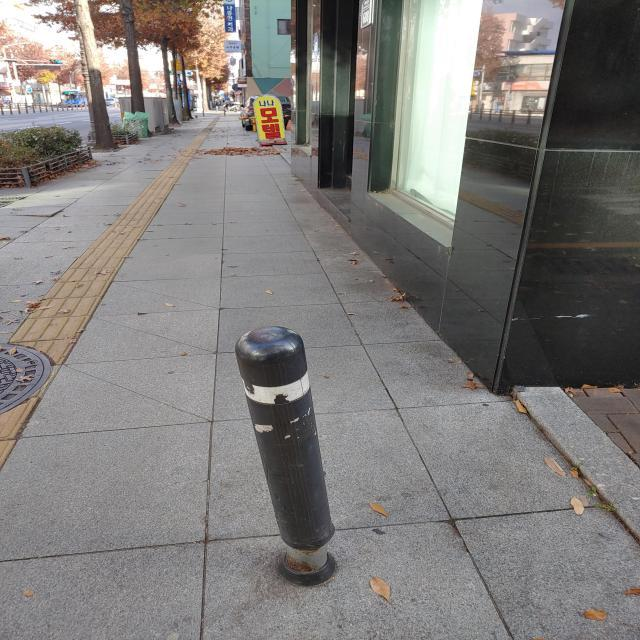pole: (231, 321, 338, 580)
